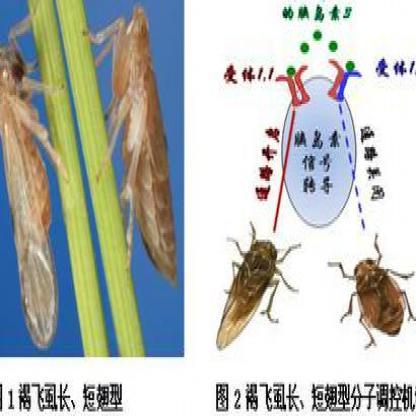brown-planthopper: (105, 10, 177, 284), (1, 38, 57, 337)
